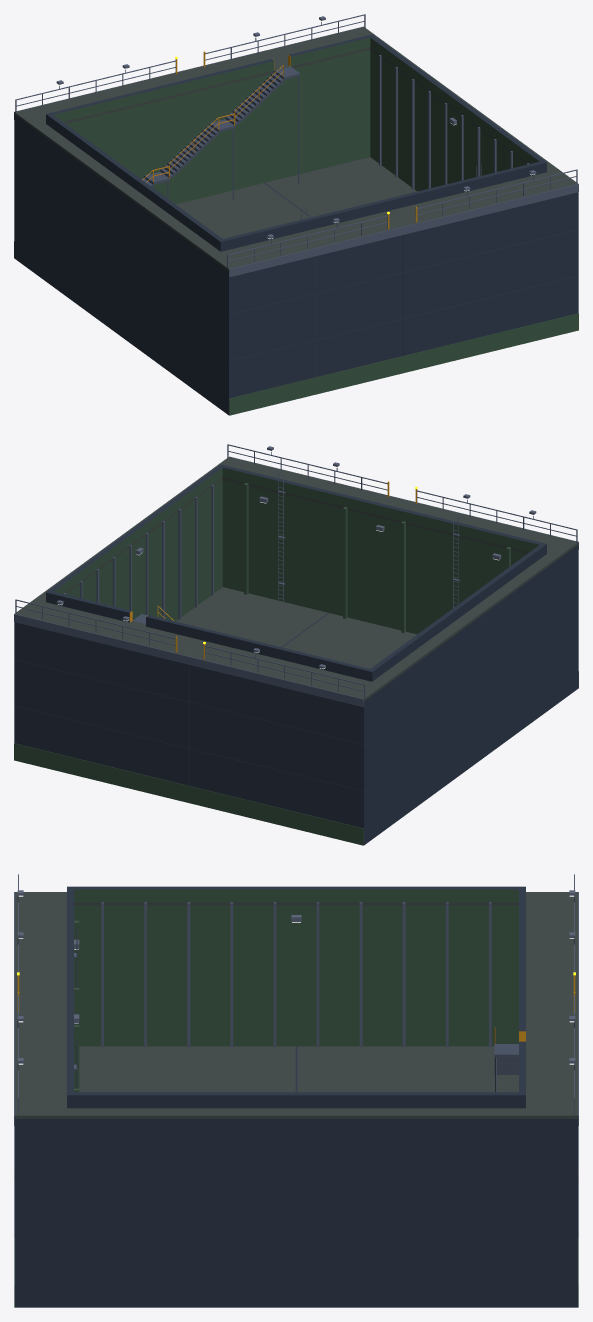
File: port_ship_mid_hold.glb
3 renders of one model, top to bottom at view 1: azimuth 30°, elevation 25°; view 2: azimuth 150°, elevation 25°; view 3: azimuth 270°, elevation 25°, orthographic. The views are drawn at different scales.
Visible parts, largest first — view 1: hull, deck, railing, hold_lining, stairs, trim, handrails; view 2: hull, deck, railing, hold_lining, trim; view 3: hull, deck, railing, hold_lining, stairs.
Boxes of the visible parts, bbox=[...] form: hull: bbox=[14, 34, 578, 415]; deck: bbox=[14, 27, 578, 271]; railing: bbox=[14, 14, 578, 277]; hold_lining: bbox=[14, 241, 578, 415]; stairs: bbox=[141, 66, 300, 187]; trim: bbox=[229, 213, 578, 377]; handrails: bbox=[142, 65, 283, 182]; hull: bbox=[14, 464, 578, 845]; deck: bbox=[14, 457, 578, 701]; railing: bbox=[14, 444, 578, 707]; hold_lining: bbox=[14, 483, 578, 845]; trim: bbox=[14, 643, 363, 807]; hull: bbox=[15, 886, 577, 1307]; deck: bbox=[15, 892, 577, 1118]; railing: bbox=[14, 874, 578, 1125]; hold_lining: bbox=[14, 920, 578, 1307]; stairs: bbox=[494, 1044, 518, 1074].
Bounding box in the file's own units: 30 × 13.76 × 32.
